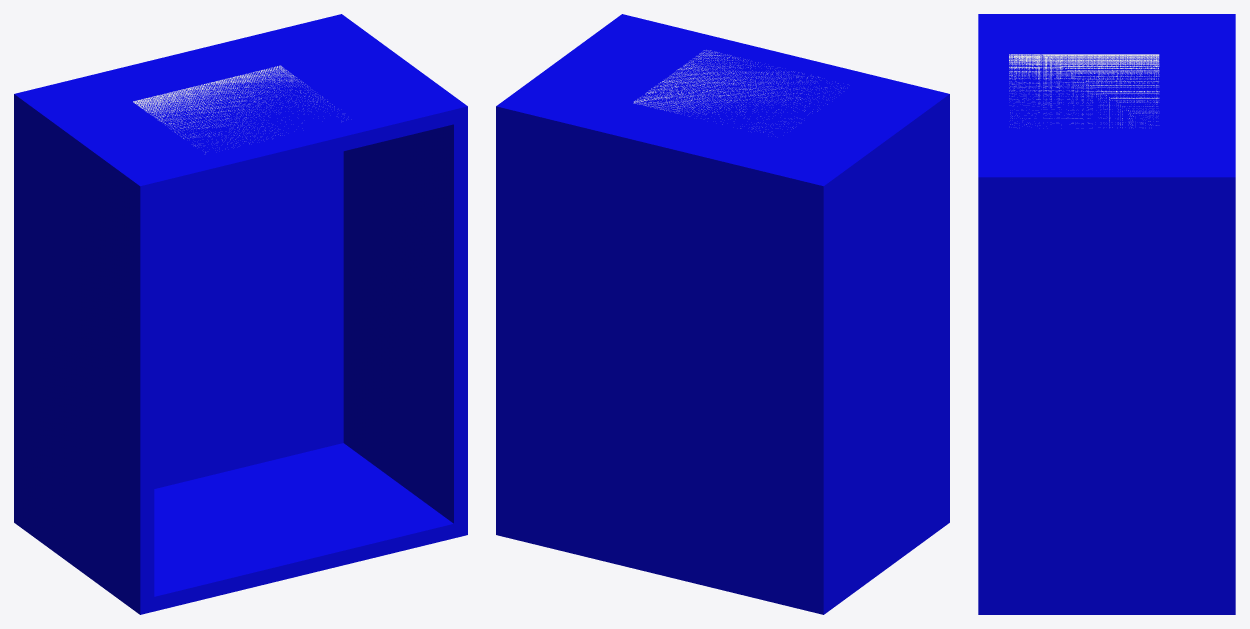
3 views of the same model, side by side, from view 1: azimuth 30°, elevation 25°; view 2: azimuth 150°, elevation 25°; view 3: azimuth 270°, elevation 25° (orthographic). The views are drawn at different scales.
Visible parts, largest first — view 1: kailey stewart recycling bin; view 2: kailey stewart recycling bin; view 3: kailey stewart recycling bin.
Boxes of the visible parts, bbox=[...] form: kailey stewart recycling bin: bbox=[14, 14, 467, 614]; kailey stewart recycling bin: bbox=[496, 14, 949, 614]; kailey stewart recycling bin: bbox=[978, 14, 1235, 614].
Size of the model in its own units: 12 by 15 by 8.
